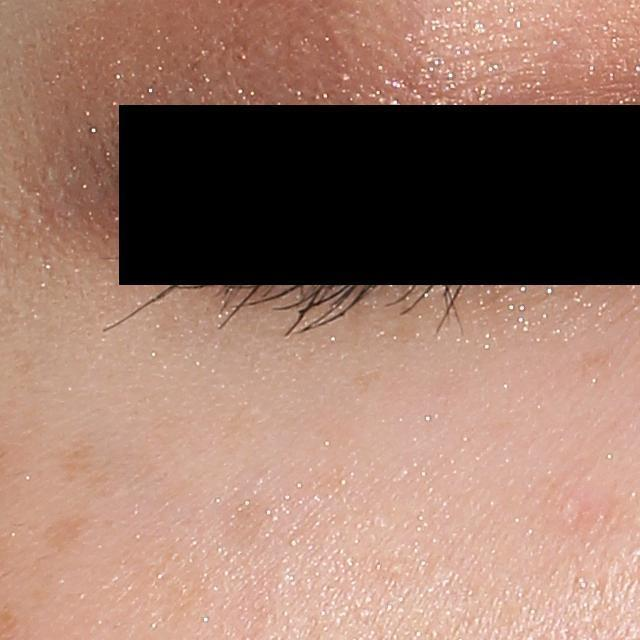melasma: (55, 439, 156, 496), (42, 510, 97, 558)
